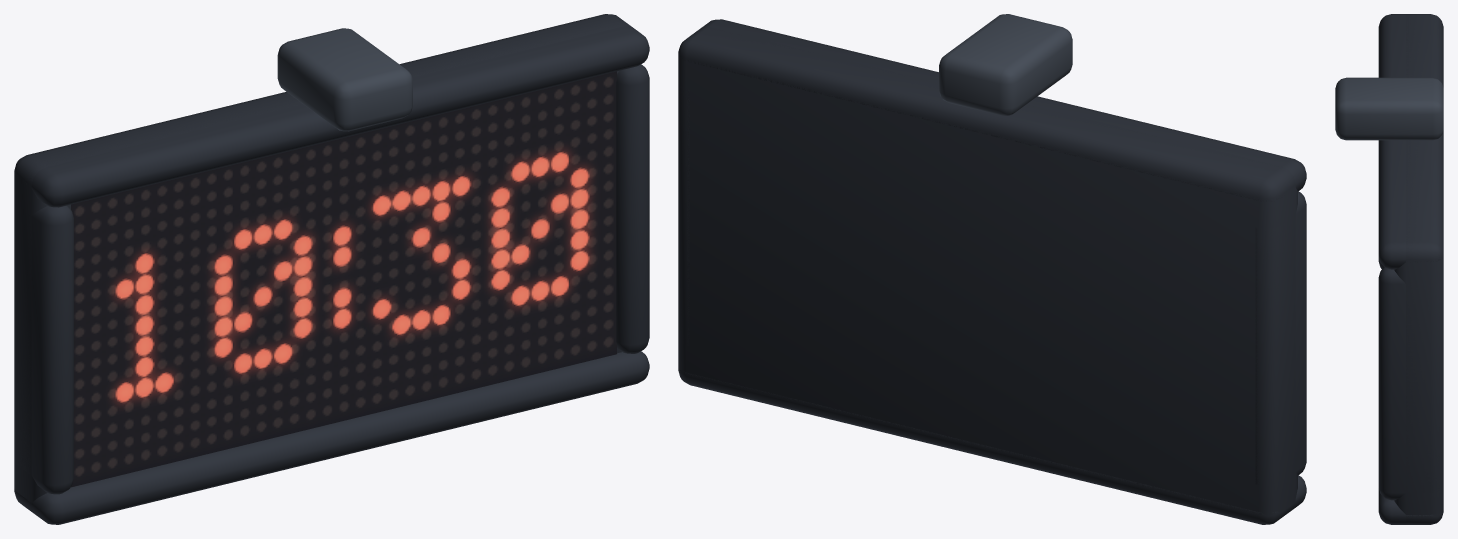
Rendered from relogio_digital.glb.
3 renders of one model, left to right at view 1: azimuth 30°, elevation 25°; view 2: azimuth 150°, elevation 25°; view 3: azimuth 270°, elevation 25°, orthographic. The views are drawn at different scales.
Visible parts, largest first — view 1: tela_troca, relogio_digital; view 2: relogio_digital; view 3: relogio_digital.
Part boxes in pixels (left/top/right/bottom): tela_troca: left=71, top=71, right=616, bottom=487; relogio_digital: left=14, top=14, right=649, bottom=524; relogio_digital: left=678, top=14, right=1306, bottom=524; relogio_digital: left=1335, top=14, right=1443, bottom=524.
Bounding box in the file's own units: 1.56 × 0.98 × 0.3.
2 materials, 2 textured.
